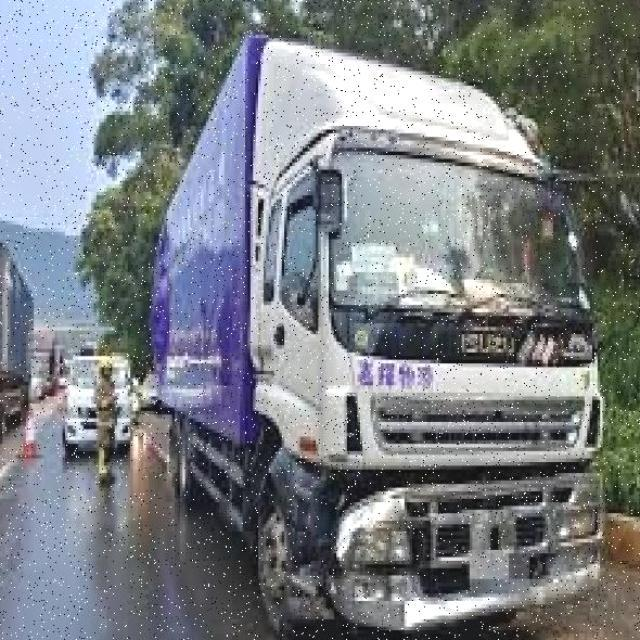accident: (263, 348, 621, 640)
